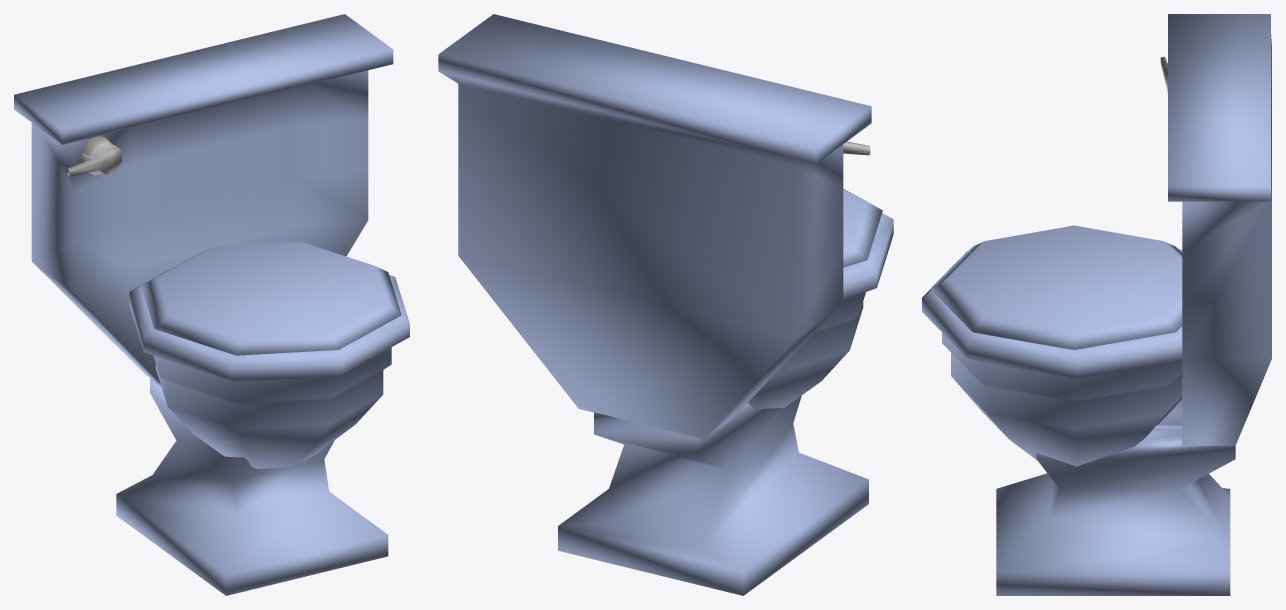
File: toilet.glb
3 renders of one model, left to right at view 1: azimuth 30°, elevation 25°; view 2: azimuth 150°, elevation 25°; view 3: azimuth 270°, elevation 25°, orthographic. The views are drawn at different scales.
Parts seen in each view (by area): view 1: toilet, seat; view 2: toilet, seat; view 3: toilet, seat.
Part boxes in pixels (x1,y1,x2,y2): toilet: (14, 14, 409, 595); seat: (141, 242, 401, 355); toilet: (438, 14, 893, 595); seat: (843, 189, 882, 267); toilet: (922, 14, 1271, 595); seat: (930, 225, 1182, 349).
Size of the model in its own units: 0.7816 by 0.9645 by 0.6729.
Materials: 4 (1 with a texture image).
